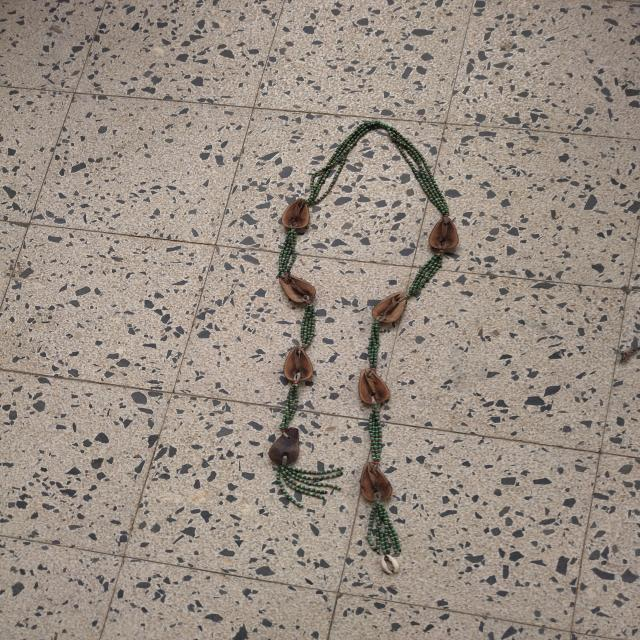facedown: (262, 422, 307, 472)
faceup: (419, 211, 468, 261), (348, 365, 398, 414), (355, 459, 399, 506), (272, 268, 322, 309), (279, 343, 318, 391), (367, 288, 411, 329), (278, 196, 315, 236)
